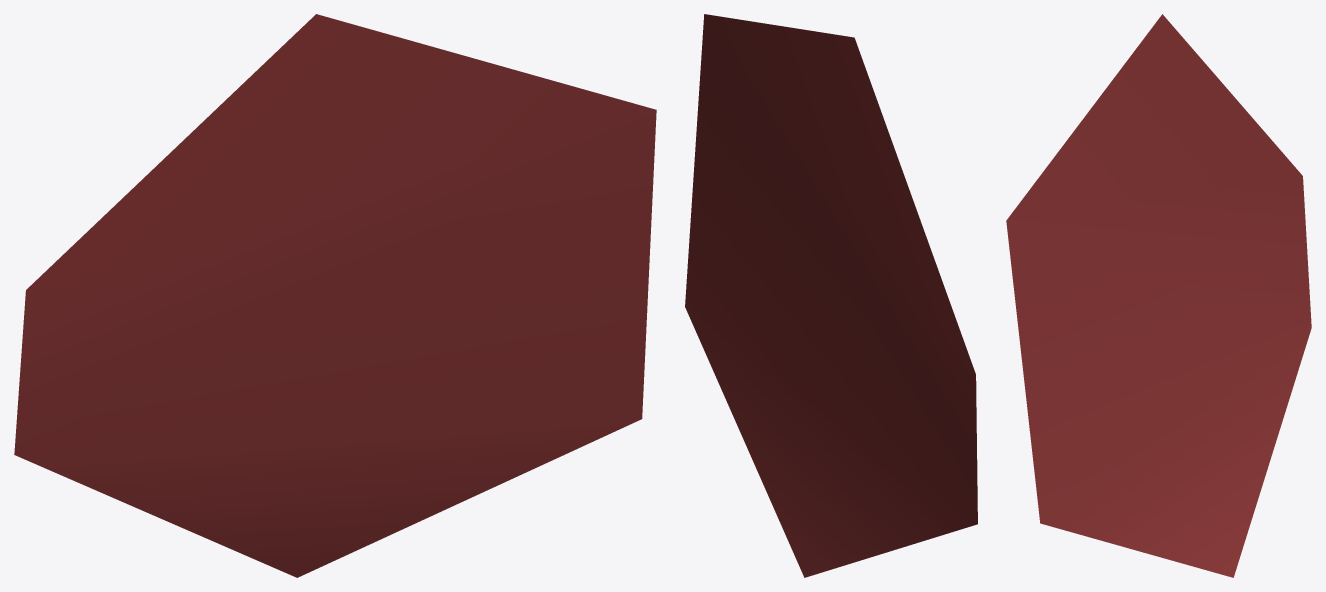
File: mentalis-muscle-or.glb
The picture shows the model from 3 angles, left to right: view 1: azimuth 30°, elevation 25°; view 2: azimuth 150°, elevation 25°; view 3: azimuth 270°, elevation 25°; orthographic projection. The views are drawn at different scales.
Visible parts, largest first — view 1: Mentalis muscle.or; view 2: Mentalis muscle.or; view 3: Mentalis muscle.or.
Boxes of the visible parts, <box> form: Mentalis muscle.or: <box>14,14,656,577</box>; Mentalis muscle.or: <box>685,14,977,577</box>; Mentalis muscle.or: <box>1006,14,1311,577</box>.
Size of the model in its own units: 0.00645 by 0.00763 by 0.0038.
